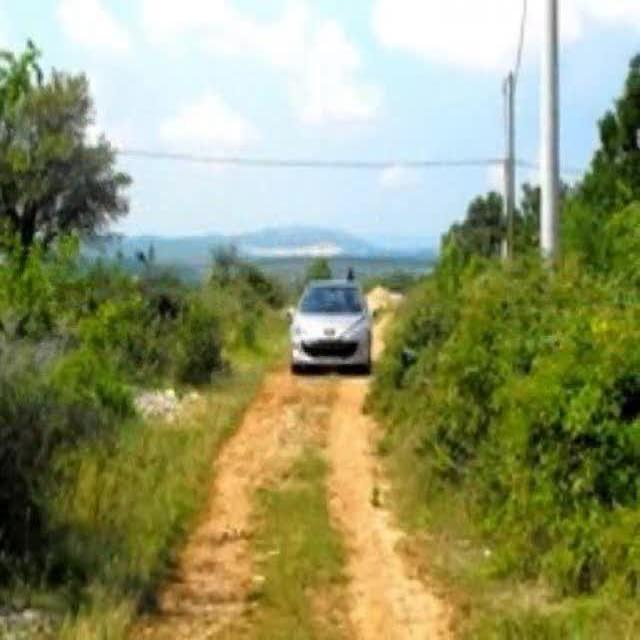other: (342, 269, 403, 427)
